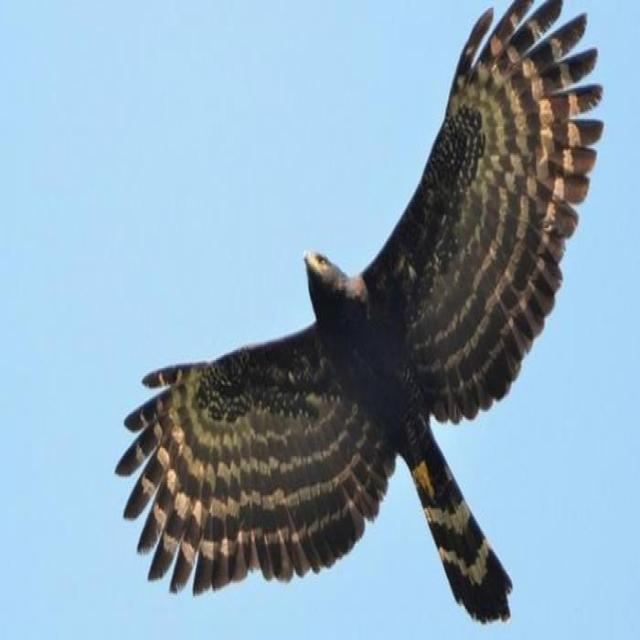Elang Jawa: (105, 0, 613, 640)
